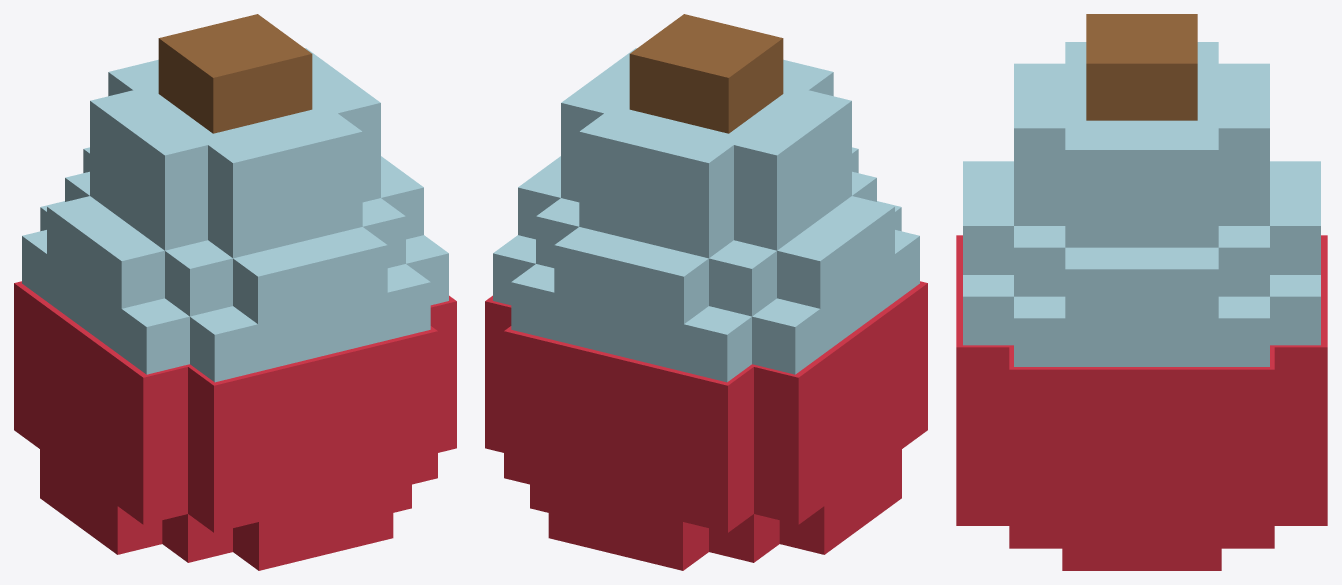
Rendered from potion-pixor-blocky.glb.
3 renders of one model, left to right at view 1: azimuth 30°, elevation 25°; view 2: azimuth 150°, elevation 25°; view 3: azimuth 270°, elevation 25°, orthographic. The views are drawn at different scales.
Visible parts, largest first — view 1: Potion glass, Potion liquid, Potion cork; view 2: Potion glass, Potion liquid, Potion cork; view 3: Potion glass, Potion liquid, Potion cork.
Boxes of the visible parts, <box> form: Potion glass: <box>22,48,448,382</box>; Potion liquid: <box>14,281,456,570</box>; Potion cork: <box>158,14,312,133</box>; Potion glass: <box>493,48,919,382</box>; Potion liquid: <box>485,281,927,570</box>; Potion cork: <box>629,14,783,133</box>; Potion glass: <box>963,42,1320,366</box>; Potion liquid: <box>956,235,1327,570</box>; Potion cork: <box>1086,14,1197,120</box>.
Size of the model in its own units: 0.3292 by 0.4438 by 0.3292.
